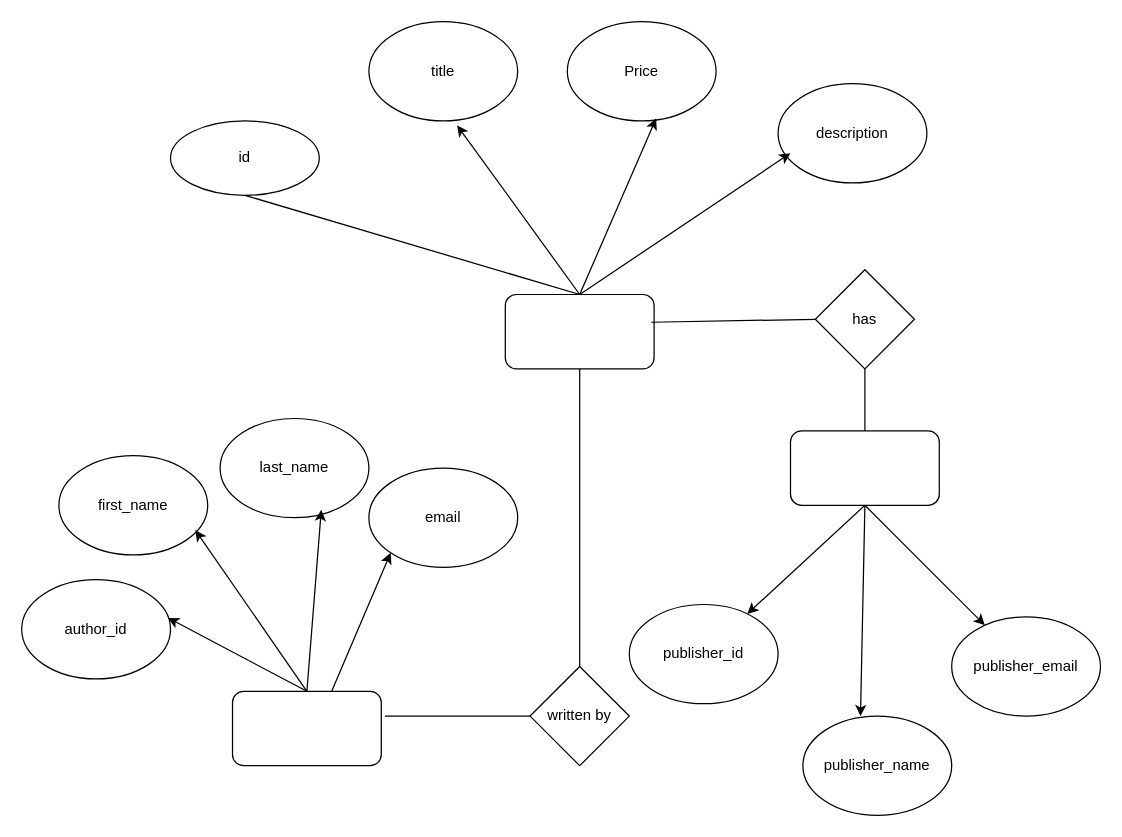
Some shapes in this 1122 by 837 pixel diagram are drawn without their labels. Each missing label, with the centre of its shape:
"Author" goes at point (306, 728).
"Book" goes at point (579, 331).
"Publisher" goes at point (864, 467).
